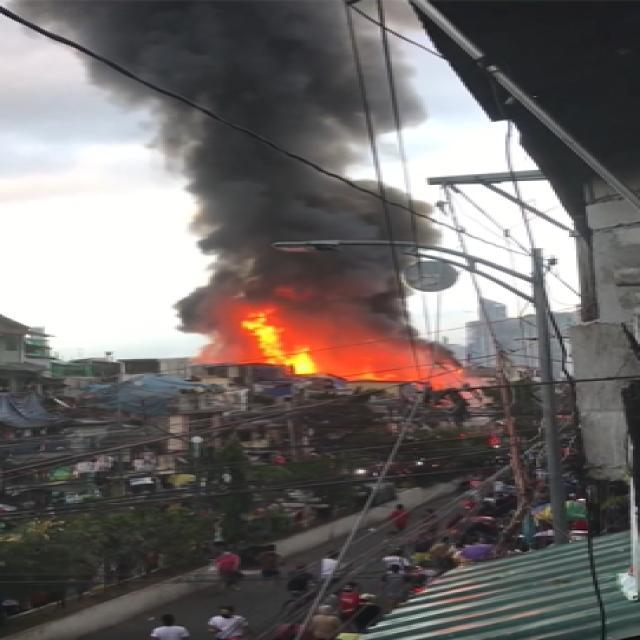Fire: (239, 309, 320, 377)
Smoke: (29, 0, 460, 385)
